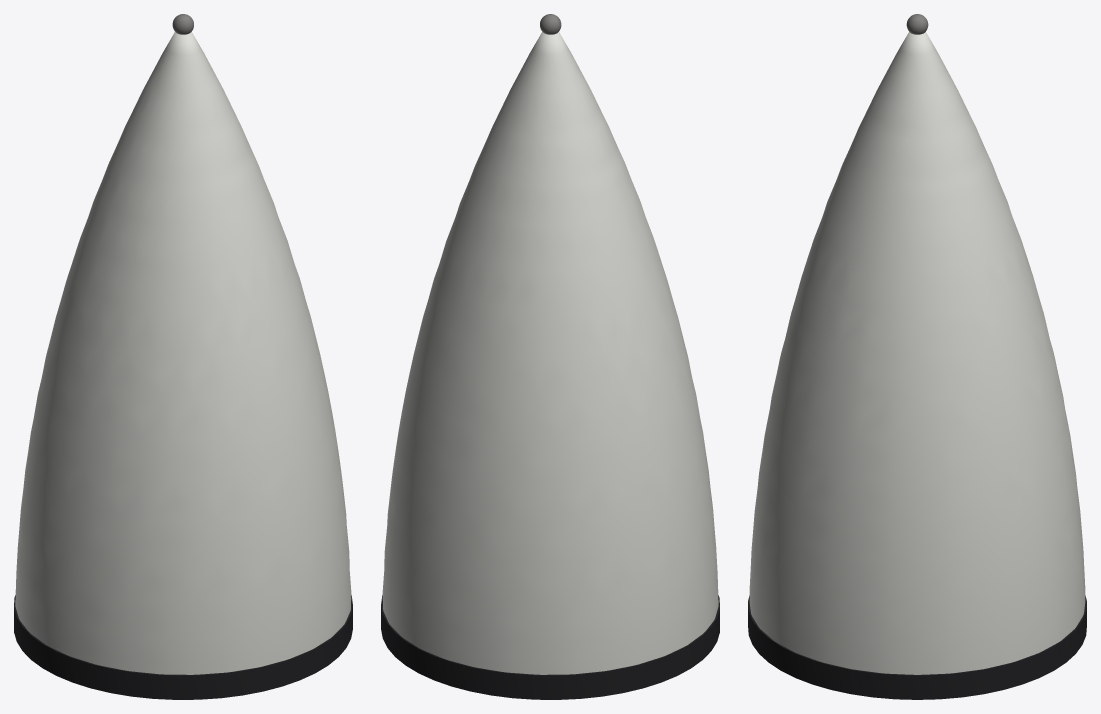
Rendered from stage13_nose_cone_ogive_s.glb.
3 renders of one model, left to right at view 1: azimuth 30°, elevation 25°; view 2: azimuth 150°, elevation 25°; view 3: azimuth 270°, elevation 25°, orthographic.
Visible parts, largest first — view 1: cone, base_ring; view 2: cone, base_ring; view 3: cone, base_ring.
Boxes of the visible parts, x1,y1,x2,y2 form: cone: (15, 32, 351, 674); base_ring: (14, 595, 352, 699); cone: (382, 32, 718, 674); base_ring: (381, 595, 719, 699); cone: (749, 32, 1085, 674); base_ring: (748, 595, 1086, 699).
Size of the model in its own units: 1.26 by 2.51 by 1.26.
Materials: 3 (1 with a texture image).
